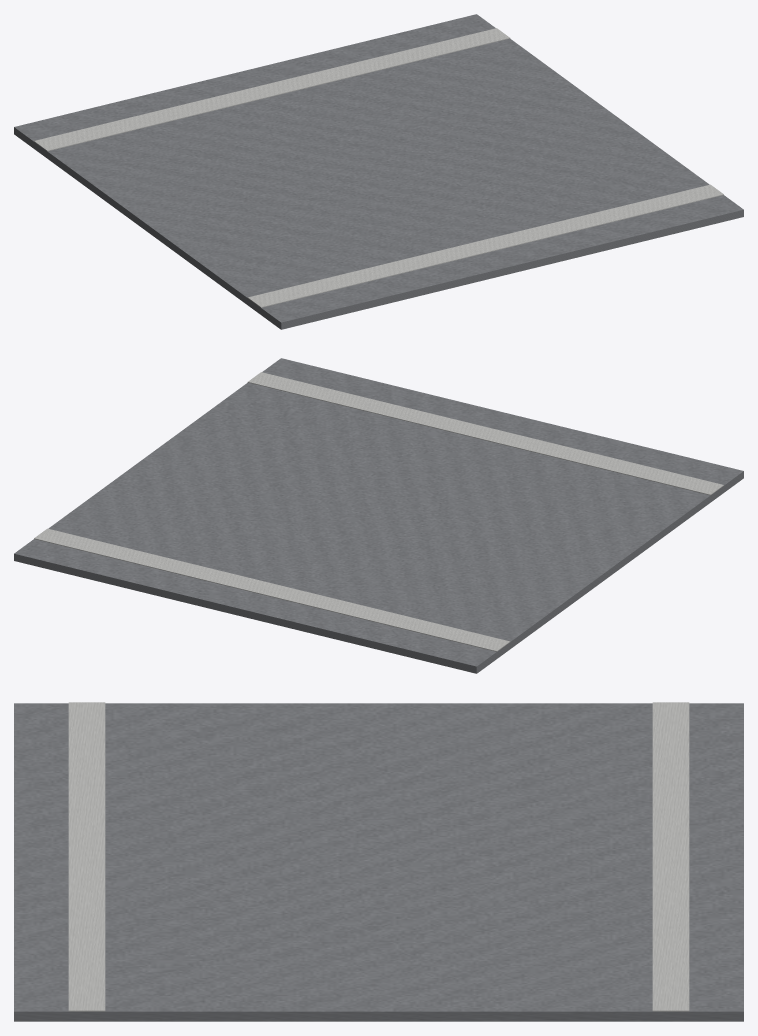
The model's file is go-kart-track-and-pit-lane-track-surface-tile-straight-016ad102__34333.glb.
3 renders of one model, top to bottom at view 1: azimuth 30°, elevation 25°; view 2: azimuth 150°, elevation 25°; view 3: azimuth 270°, elevation 25°, orthographic. The views are drawn at different scales.
Parts seen in each view (by area): view 1: track-surface-tile-straight-tarmac, track-surface-tile-straight-concrete; view 2: track-surface-tile-straight-tarmac, track-surface-tile-straight-concrete; view 3: track-surface-tile-straight-tarmac, track-surface-tile-straight-concrete.
Boxes of the visible parts, bbox=[...] form: track-surface-tile-straight-tarmac: bbox=[14, 14, 743, 329]; track-surface-tile-straight-concrete: bbox=[34, 28, 723, 307]; track-surface-tile-straight-tarmac: bbox=[14, 358, 743, 673]; track-surface-tile-straight-concrete: bbox=[34, 372, 723, 651]; track-surface-tile-straight-tarmac: bbox=[14, 703, 743, 1021]; track-surface-tile-straight-concrete: bbox=[68, 702, 689, 1011].
Bounding box in the file's own units: 8 × 0.1319 × 8.
Materials: 2 (2 with a texture image).
